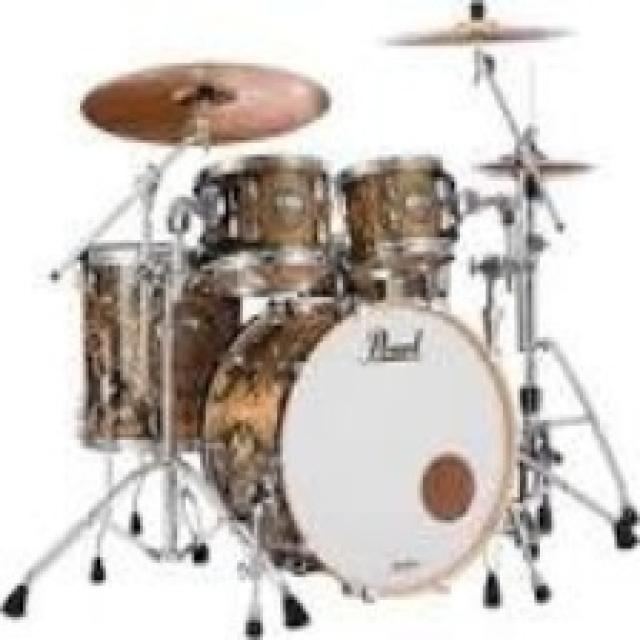drums: (23, 0, 640, 609)
